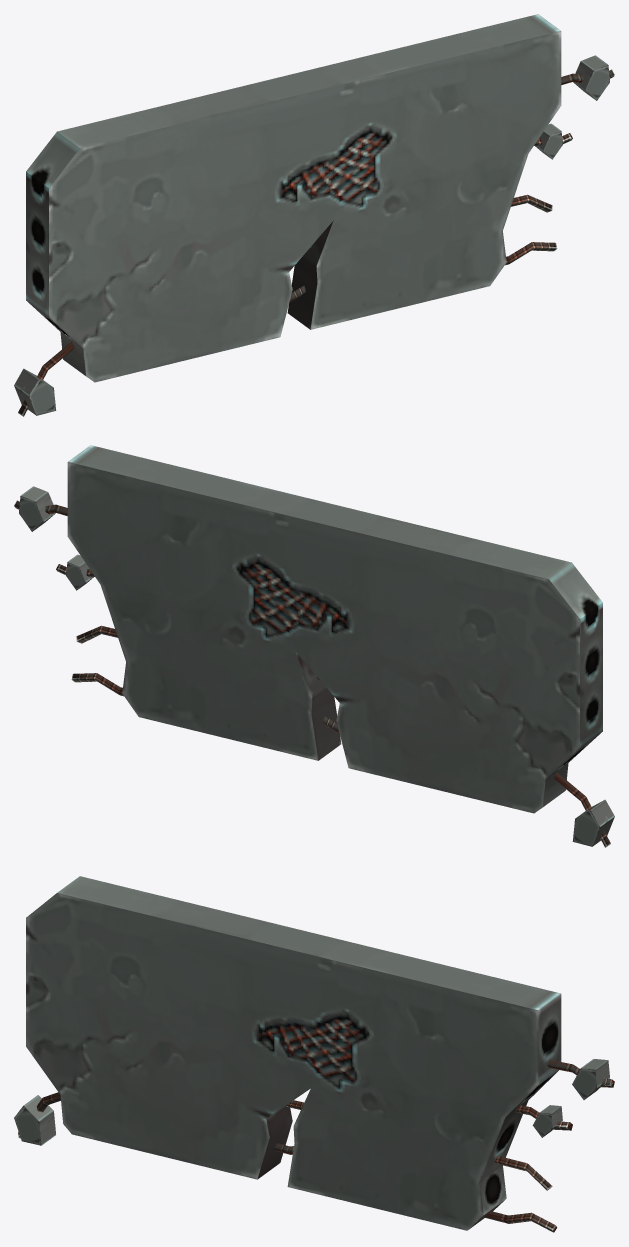
File: shitou02.FBX
3 renders of one model, top to bottom at view 1: azimuth 30°, elevation 25°; view 2: azimuth 150°, elevation 25°; view 3: azimuth 330°, elevation 25°, orthographic.
Parts seen in each view (by area): view 1: shitou02; view 2: shitou02; view 3: shitou02.
Boxes of the visible parts, x1,y1,x2,y2 form: shitou02: (14, 14, 614, 416); shitou02: (14, 445, 614, 847); shitou02: (14, 876, 614, 1232).
Size of the model in its own units: 300 by 128 by 20.
